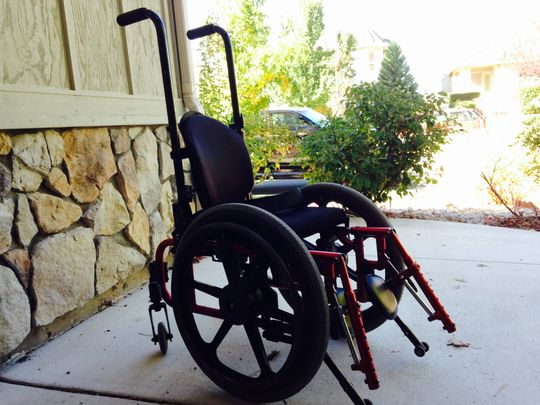wheelchair: (109, 7, 463, 401)
